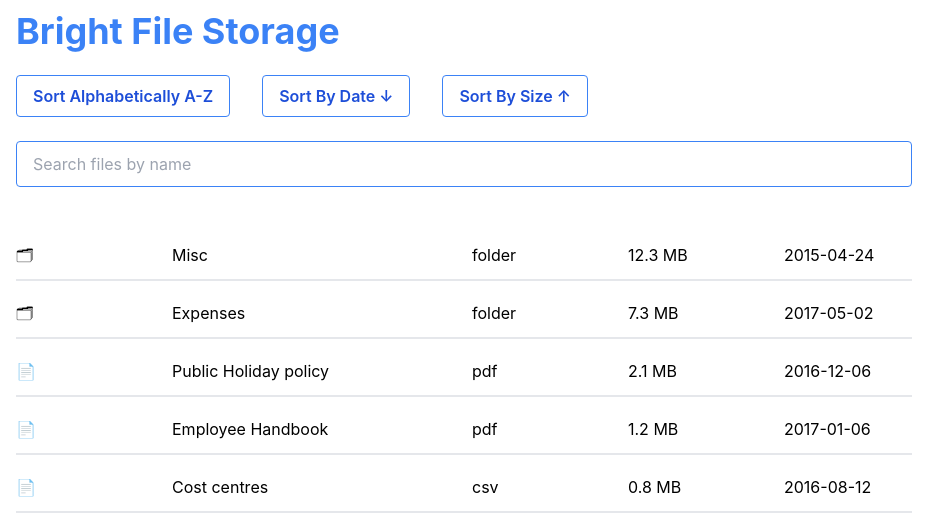
Test: Filestorage <App /> › can display the files in a folder after being clicked
Step 1. Click the text "Misc" → click(190, 255), box [172,245,208,265]
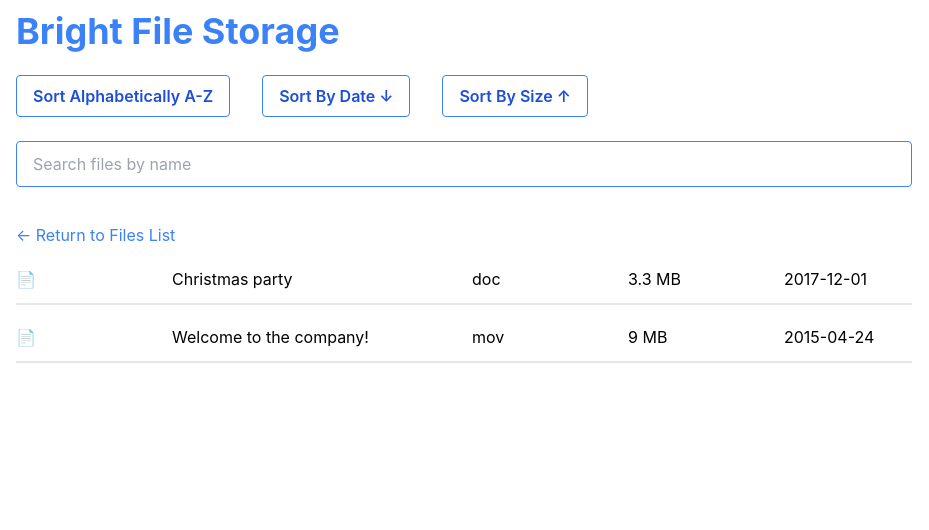
Expected: the text "Christmas party" is shown, [172,269,293,289]
